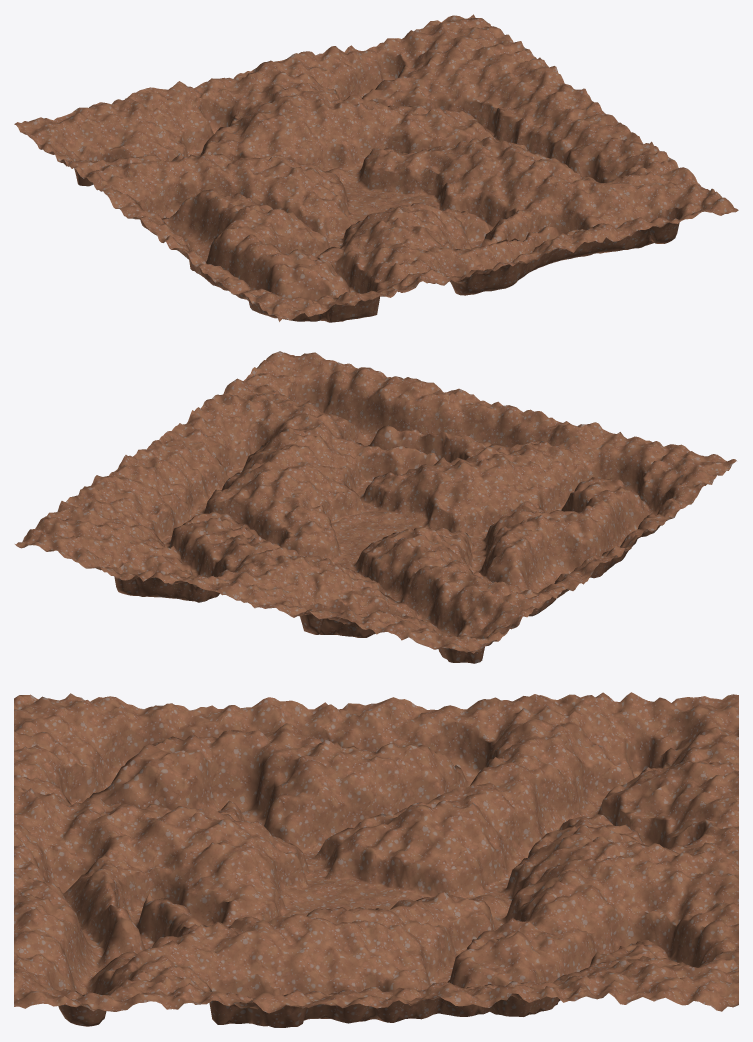
File: dc_terrain.glb
The picture shows the model from 3 angles, top to bottom: view 1: azimuth 30°, elevation 25°; view 2: azimuth 150°, elevation 25°; view 3: azimuth 270°, elevation 25°; orthographic projection. The views are drawn at different scales.
Visible parts, largest first — view 1: chunk_1; view 2: chunk_1; view 3: chunk_1.
Boxes of the visible parts, x1,y1,x2,y2 form: chunk_1: (14,14,738,322); chunk_1: (15,351,736,663); chunk_1: (14,692,738,1027).
Bounding box in the file's own units: 200 × 21.12 × 200.
1 material, 1 textured.
